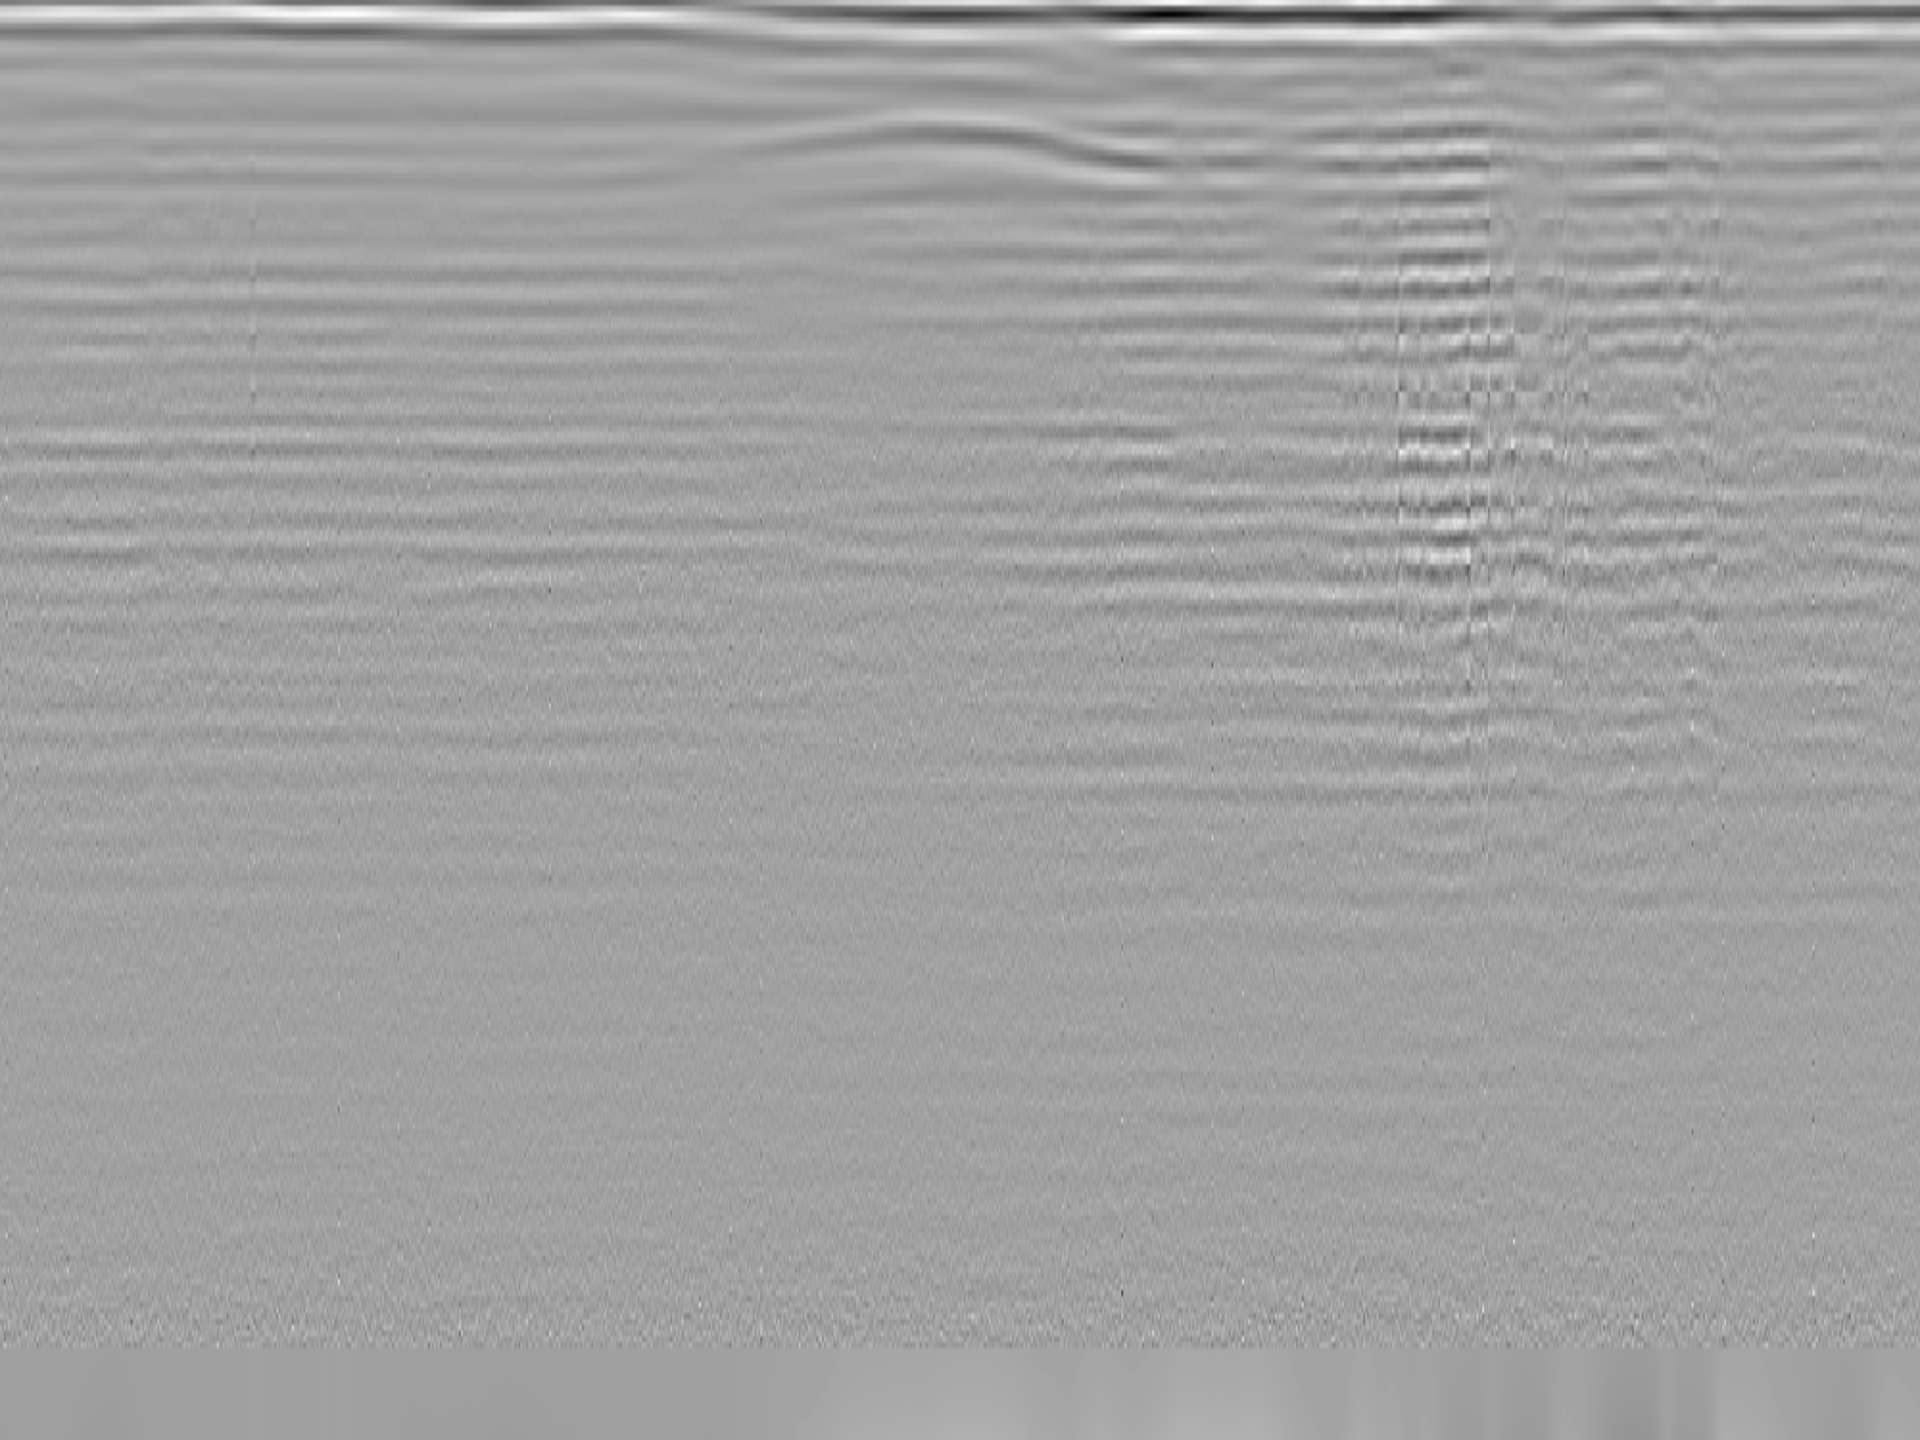Tunnel: (618, 115, 1237, 185)
